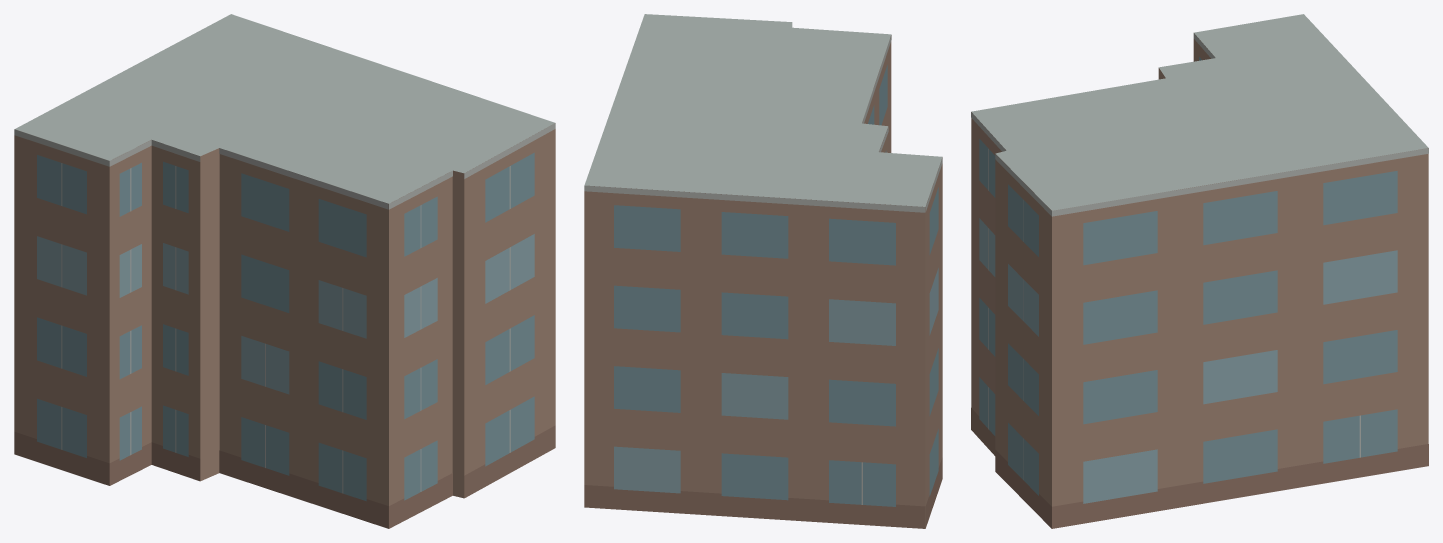
The model's file is survey-upis-32809090.glb.
3 renders of one model, left to right at view 1: azimuth 30°, elevation 25°; view 2: azimuth 150°, elevation 25°; view 3: azimuth 270°, elevation 25°, orthographic. The views are drawn at different scales.
Visible parts, largest first — view 1: survey-upis-32809090.tmp; view 2: survey-upis-32809090.tmp; view 3: survey-upis-32809090.tmp.
Part boxes in pixels (x1,y1,x2,y2): survey-upis-32809090.tmp: (14,14,555,528); survey-upis-32809090.tmp: (584,14,942,528); survey-upis-32809090.tmp: (971,14,1428,528).
Size of the model in its own units: 17.8 by 13.4 by 17.49.
